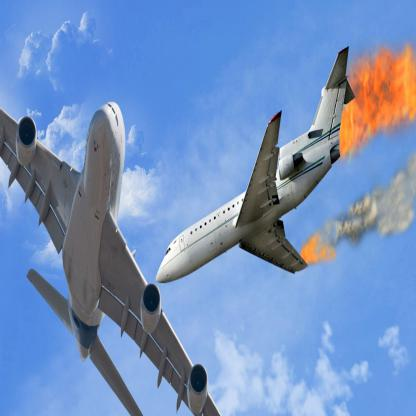CIV_Plane: (0, 98, 230, 415), (156, 43, 357, 286)
